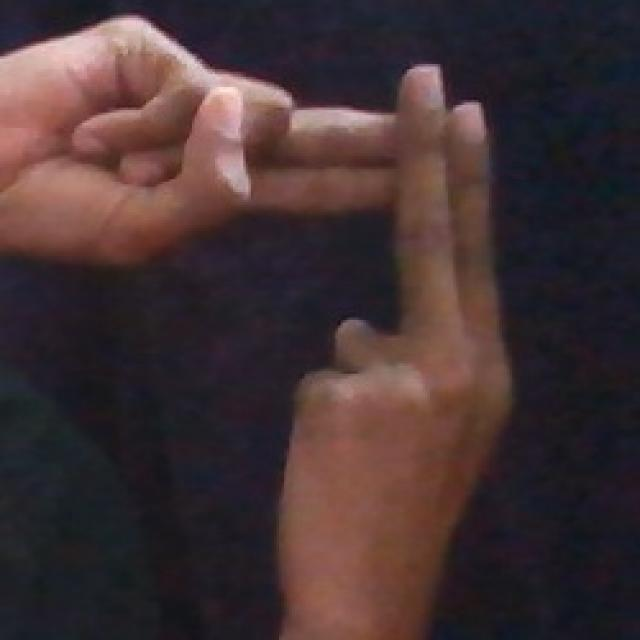Alphabet-F: (31, 14, 518, 597)
